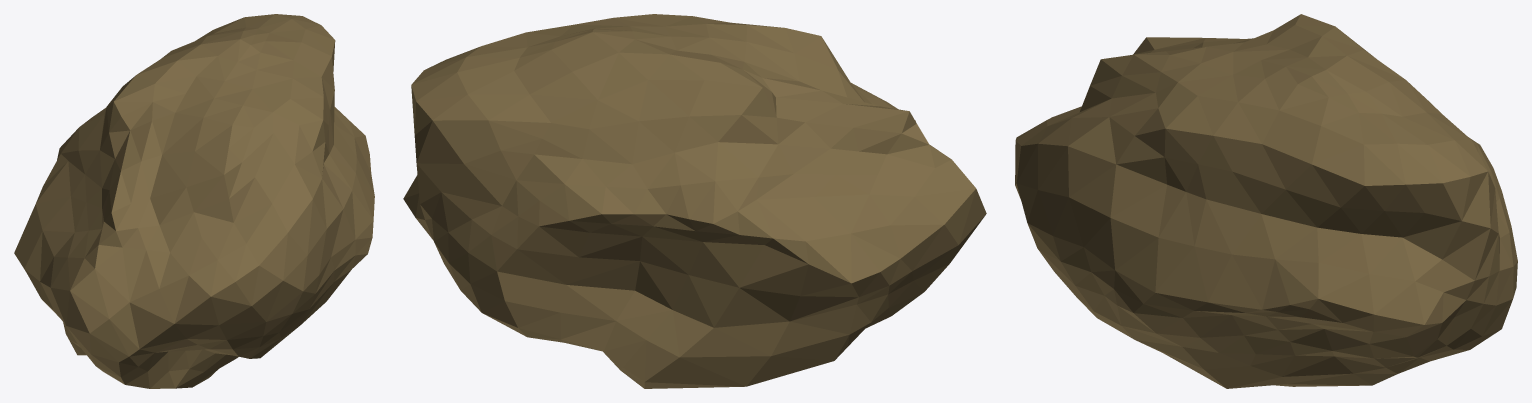
The model's file is VeliKamen.dae.
3 renders of one model, left to right at view 1: azimuth 30°, elevation 25°; view 2: azimuth 150°, elevation 25°; view 3: azimuth 270°, elevation 25°, orthographic. The views are drawn at different scales.
Visible parts, largest first — view 1: Cube.014; view 2: Cube.014; view 3: Cube.014.
Part boxes in pixels (<box>): Cube.014: <box>14,14,374,388</box>; Cube.014: <box>403,14,986,388</box>; Cube.014: <box>1015,14,1517,388</box>.
Size of the model in its own units: 11.04 by 10.2 by 7.88.
